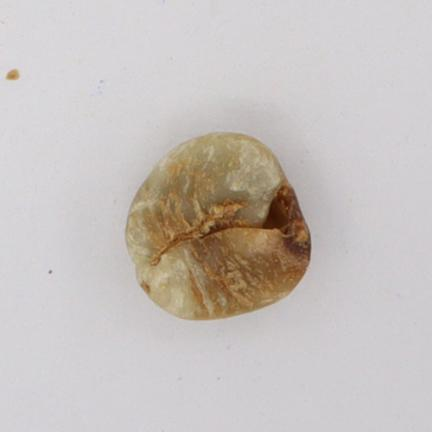cut: (127, 134, 309, 318)
